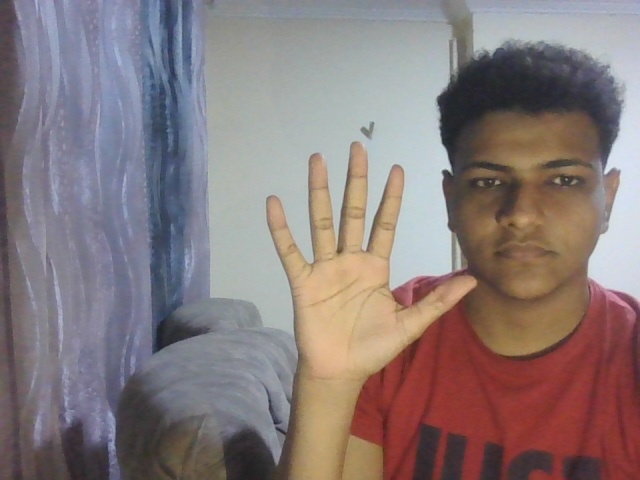Hello: (262, 135, 480, 400)
